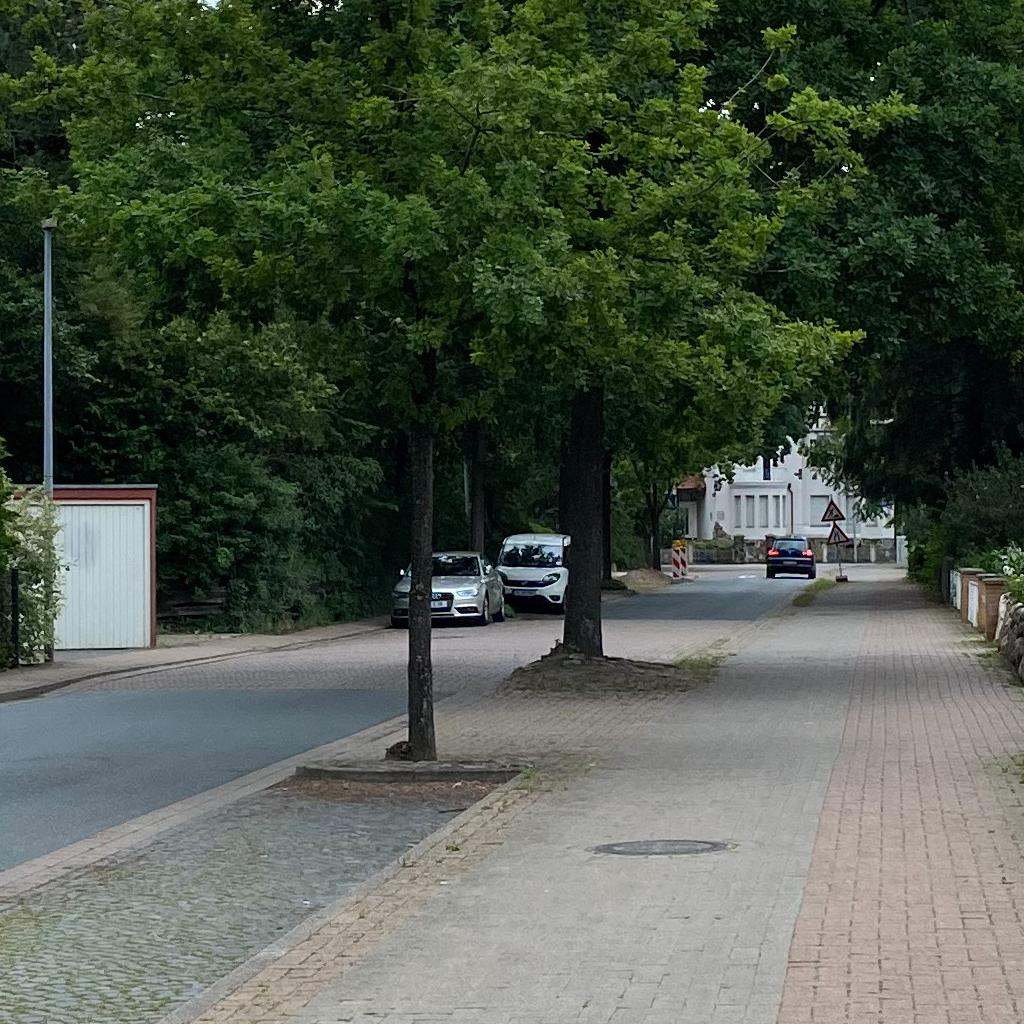tree: (1, 1, 921, 759), (57, 1, 1023, 662), (632, 460, 676, 573), (469, 426, 490, 553)
